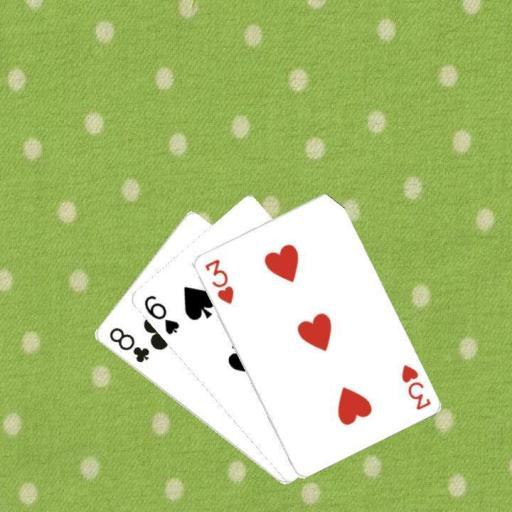card-corner: (105, 324, 151, 364), (140, 292, 181, 336), (398, 360, 432, 412), (202, 255, 236, 306)
